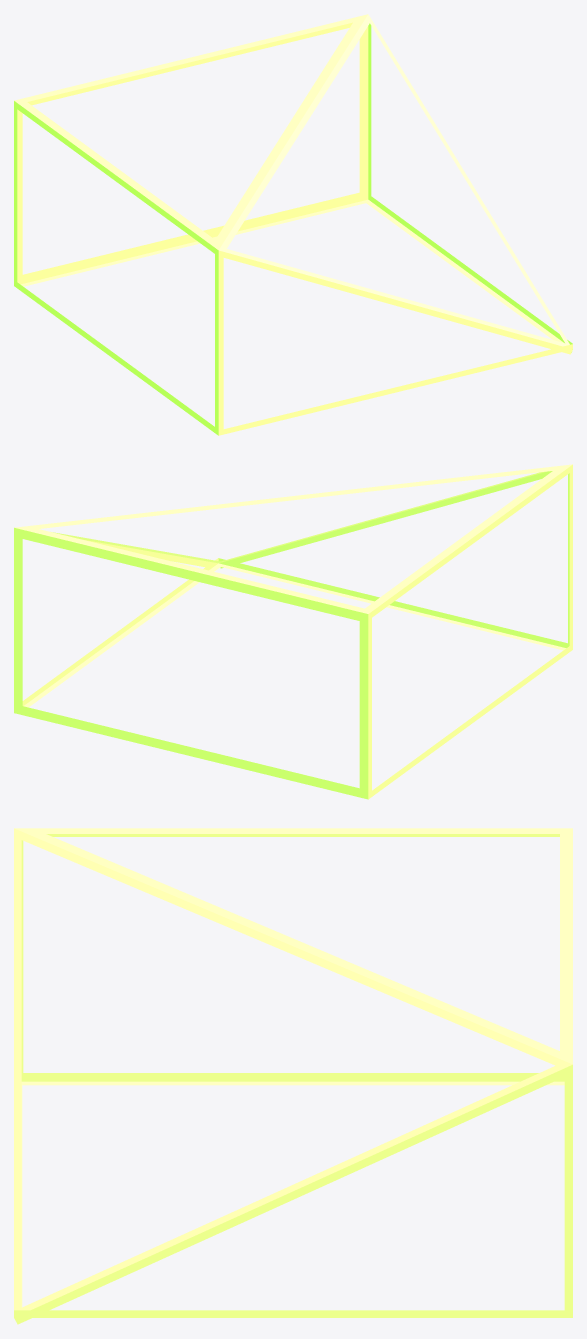
Rendered from r1c6_highlight_green.glb.
The picture shows the model from 3 angles, top to bottom: view 1: azimuth 30°, elevation 25°; view 2: azimuth 150°, elevation 25°; view 3: azimuth 270°, elevation 25°; orthographic projection. The views are drawn at different scales.
Visible parts, largest first — view 1: r1c6_hightlight_green; view 2: r1c6_hightlight_green; view 3: r1c6_hightlight_green.
Boxes of the visible parts, <box> form: r1c6_hightlight_green: <box>14,14,572,435</box>; r1c6_hightlight_green: <box>14,464,572,799</box>; r1c6_hightlight_green: <box>14,828,572,1324</box>.
Size of the model in its own units: 2 by 1.03 by 2.
